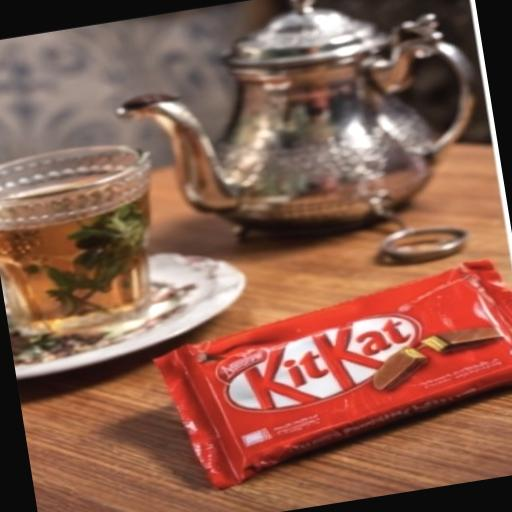kitkat: (139, 251, 512, 505)
